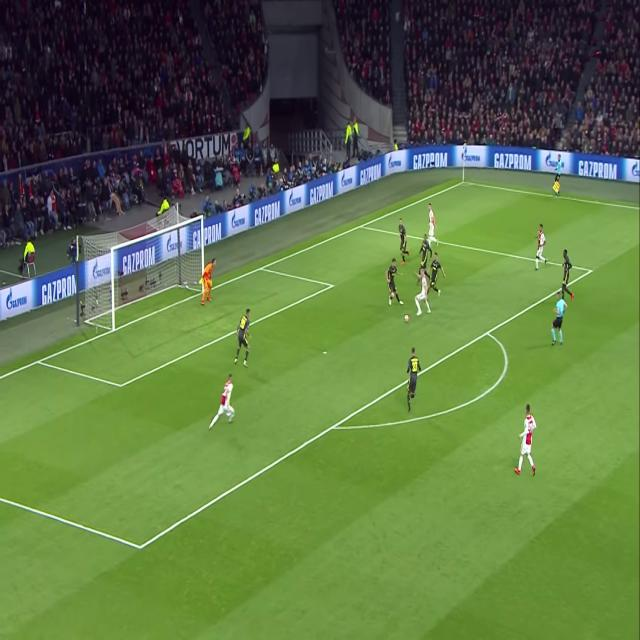Ball: (402, 309, 410, 327)
GoalKeeper: (200, 259, 217, 307)
TEAM 1: (515, 401, 539, 479), (211, 376, 237, 432), (413, 269, 432, 318), (558, 248, 574, 302)
TEAM 2: (235, 309, 253, 372), (428, 254, 446, 301), (387, 258, 404, 306), (407, 348, 420, 405), (416, 230, 431, 279), (536, 224, 550, 270), (428, 200, 440, 244), (398, 220, 408, 256)
